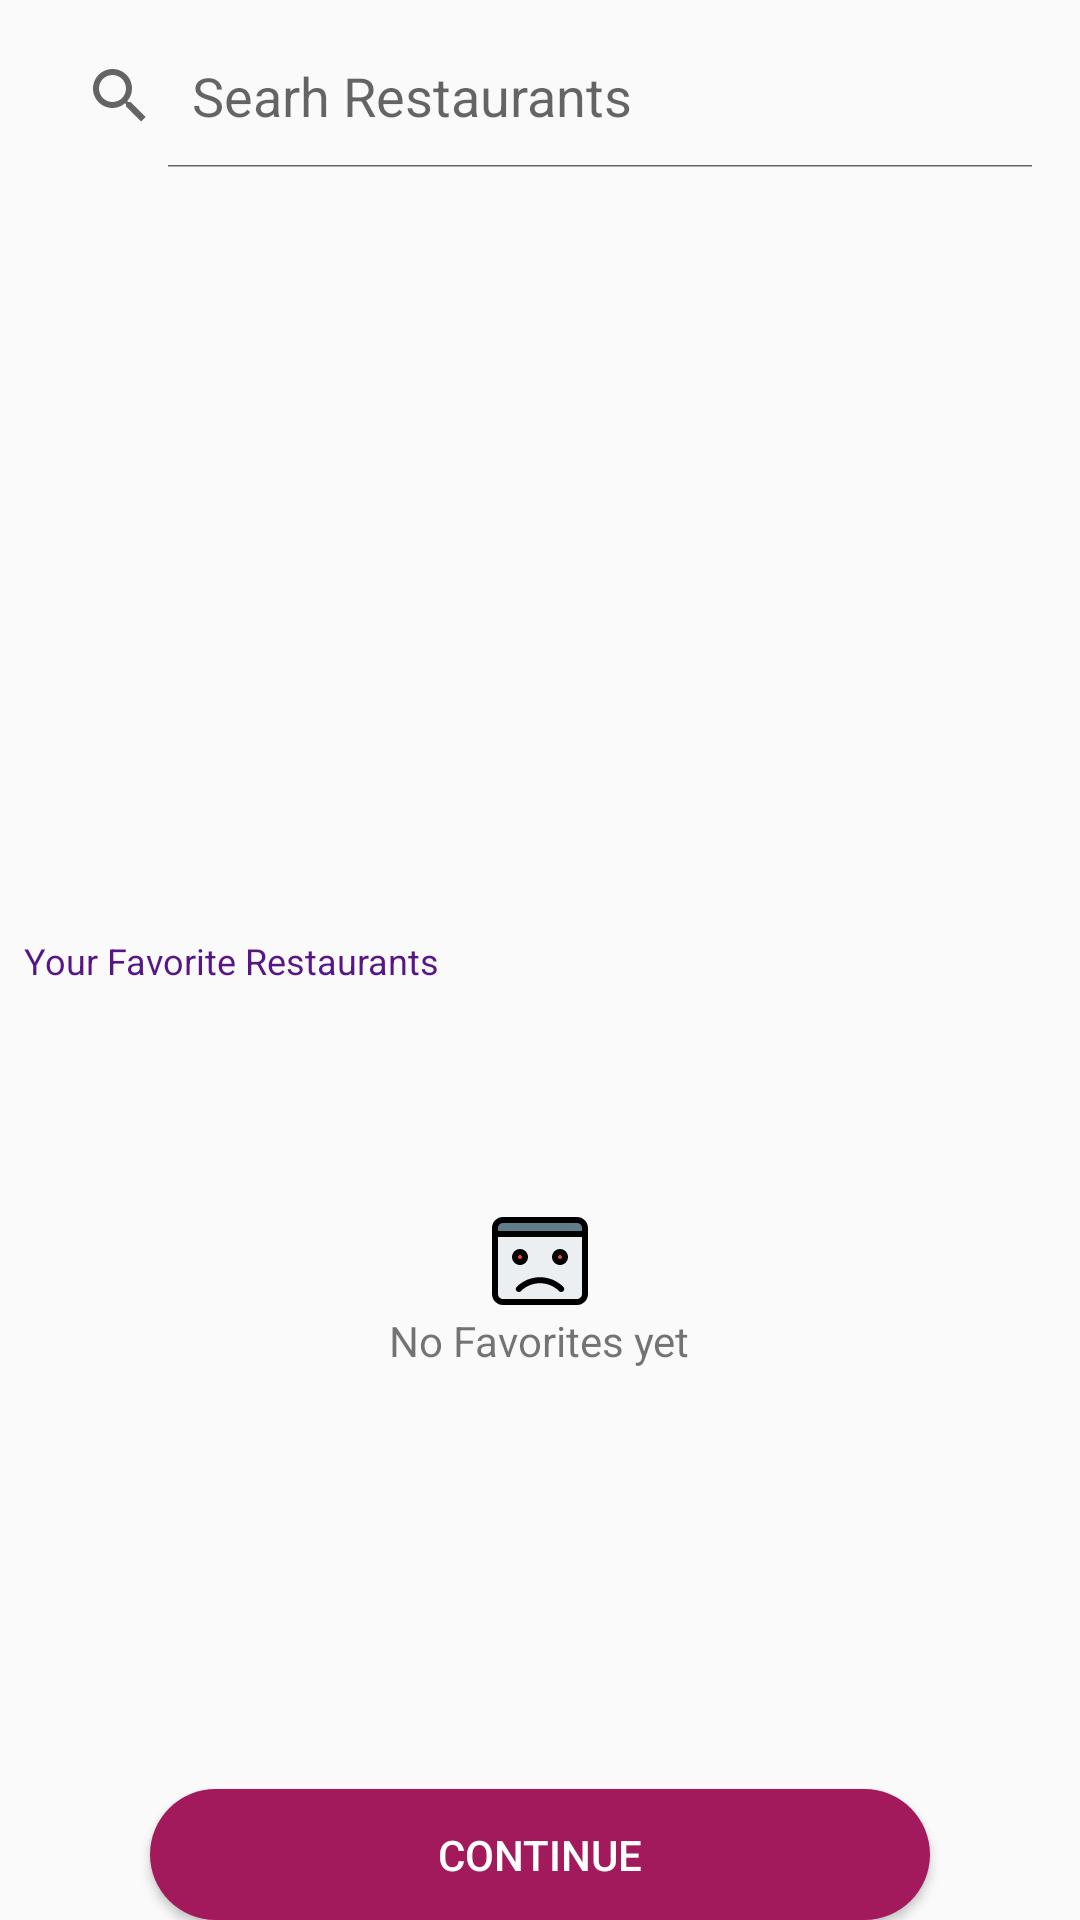

Locate icon controls on the screen. Image size 1080x1920, boxes as {"left": x1, "top": y1, "right": x2, "bottom": y2}.
bad: {"left": 492, "top": 1217, "right": 588, "bottom": 1305}
